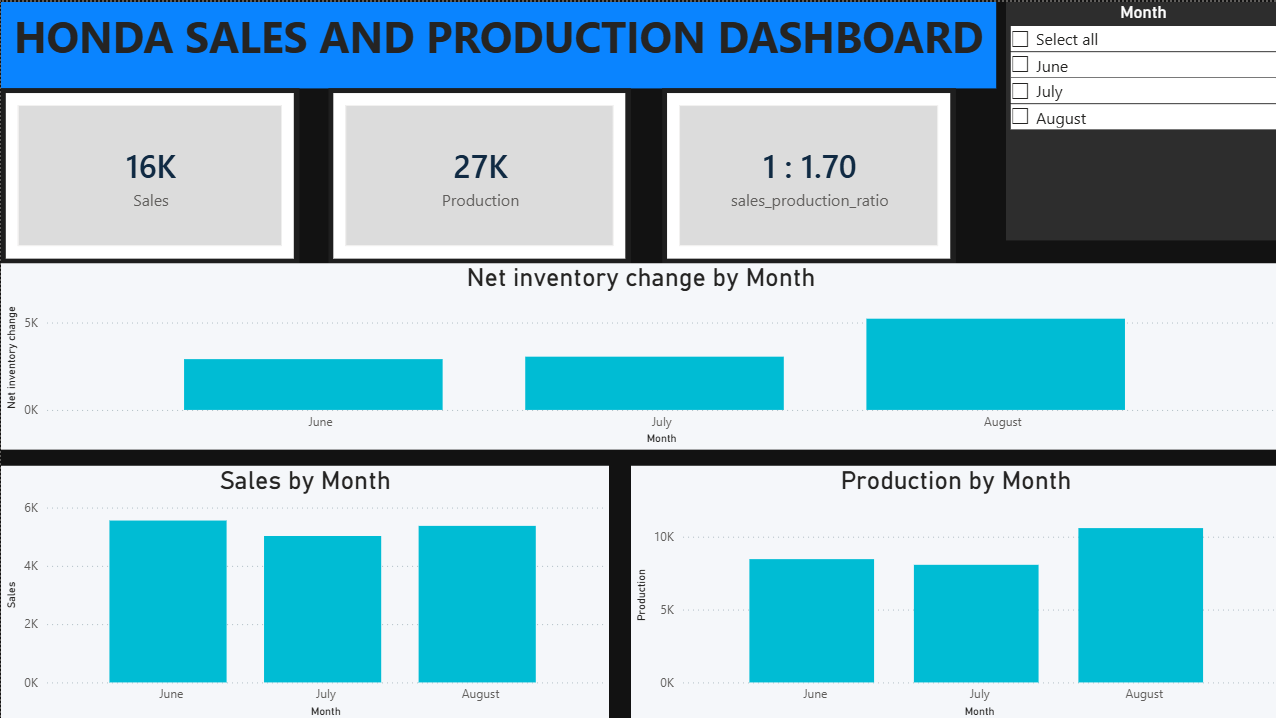

This screenshot's page, from the dashboard's own definition file:
{"tool":"powerbi","page":{"name":"Car Sales Dashboard","canvas":[1280,720],"ordinal":1},"visuals":[{"type":"textbox","box":[0,0,994.9,86],"z":0},{"type":"cardVisual","fields":{"Data":["honda_sales_production_2024.honda_sales"]},"box":[0,86.2,298.8,175],"z":1000},{"type":"cardVisual","fields":{"Data":["honda_sales_production_2024.Production"]},"box":[327.5,86.2,302.5,175],"z":2000},{"type":"cardVisual","fields":{"Data":["honda_sales_production_2024.sales_production_ratio"]},"box":[661.7,86.7,293.3,175],"z":3000},{"type":"columnChart","fields":{"Category":["honda_sales_production_2024.Month_Year.Variation.Date Hierarchy.Month"],"Y":["honda_sales_production_2024.Sales"]},"box":[0,463.3,608.3,256.7],"z":4000},{"type":"columnChart","fields":{"Category":["honda_sales_production_2024.Month_Year.Variation.Date Hierarchy.Month"],"Y":["honda_sales_production_2024.Production"]},"box":[630,463.3,650,256.7],"z":5000},{"type":"listSlicer","fields":{"Values":["honda_sales_production_2024.Month_Year.Variation.Date Hierarchy.Month"]},"box":[1005,0,275,238.3],"z":6000},{"type":"columnChart","fields":{"Category":["honda_sales_production_2024.Month_Year.Variation.Date Hierarchy.Month"],"Y":["honda_sales_production_2024.Net inventory change"]},"box":[0,261.7,1280,186.7],"z":8000}]}

Visuals, with their boxes in screenshot pixels (x1, y1, x2, y2), scaled from the page's 1280x720 canvas onto the 1276x718 screenshot:
textbox: {"left": 0, "top": 0, "right": 992, "bottom": 86}
cardVisual - honda_sales_production_2024.honda_sales: {"left": 0, "top": 86, "right": 298, "bottom": 260}
cardVisual - honda_sales_production_2024.Production: {"left": 326, "top": 86, "right": 628, "bottom": 260}
cardVisual - honda_sales_production_2024.sales_production_ratio: {"left": 660, "top": 86, "right": 952, "bottom": 261}
columnChart - honda_sales_production_2024.Month_Year.Variation.Date Hierarchy.Month x honda_sales_production_2024.Sales: {"left": 0, "top": 462, "right": 606, "bottom": 717}
columnChart - honda_sales_production_2024.Month_Year.Variation.Date Hierarchy.Month x honda_sales_production_2024.Production: {"left": 628, "top": 462, "right": 1275, "bottom": 717}
listSlicer - honda_sales_production_2024.Month_Year.Variation.Date Hierarchy.Month: {"left": 1002, "top": 0, "right": 1275, "bottom": 238}
columnChart - honda_sales_production_2024.Month_Year.Variation.Date Hierarchy.Month x honda_sales_production_2024.Net inventory change: {"left": 0, "top": 261, "right": 1275, "bottom": 447}
